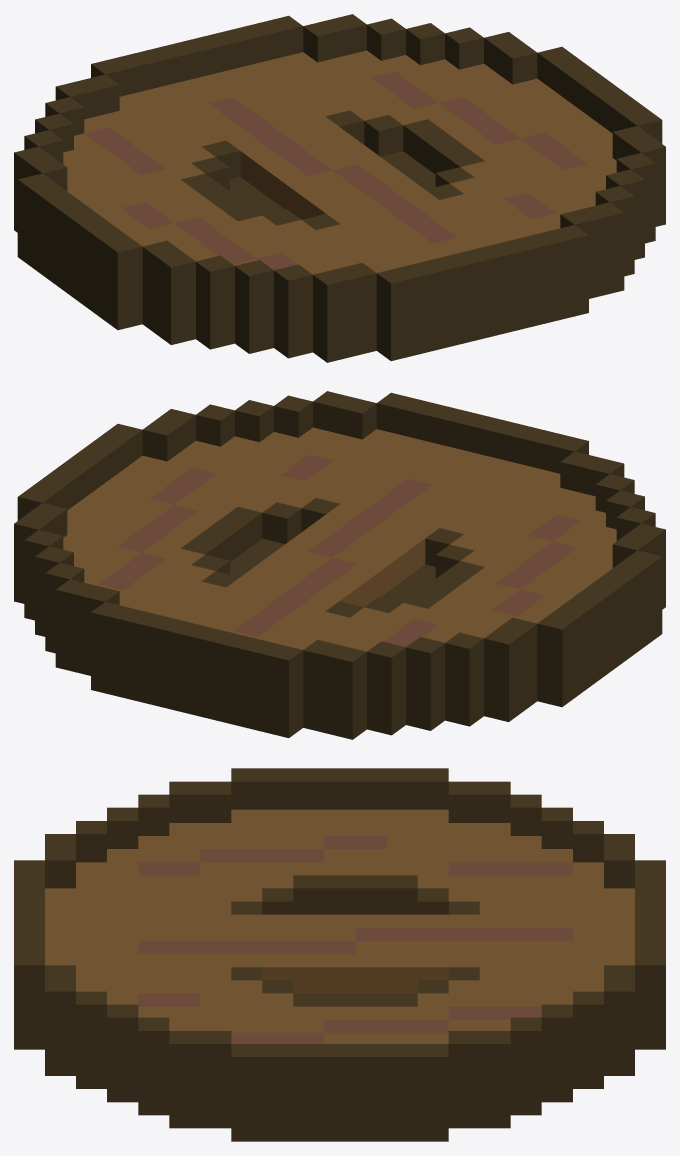
The model's file is Top_Baked.fbx.
The picture shows the model from 3 angles, top to bottom: view 1: azimuth 30°, elevation 25°; view 2: azimuth 150°, elevation 25°; view 3: azimuth 270°, elevation 25°; orthographic projection. The views are drawn at different scales.
Parts seen in each view (by area): view 1: top_baked:top_baked; view 2: top_baked:top_baked; view 3: top_baked:top_baked.
Boxes of the visible parts, x1,y1,x2,y2 form: top_baked:top_baked: (14,14,665,362); top_baked:top_baked: (14,391,665,739); top_baked:top_baked: (14,768,665,1141).
Size of the model in its own units: 22 by 3 by 21.
